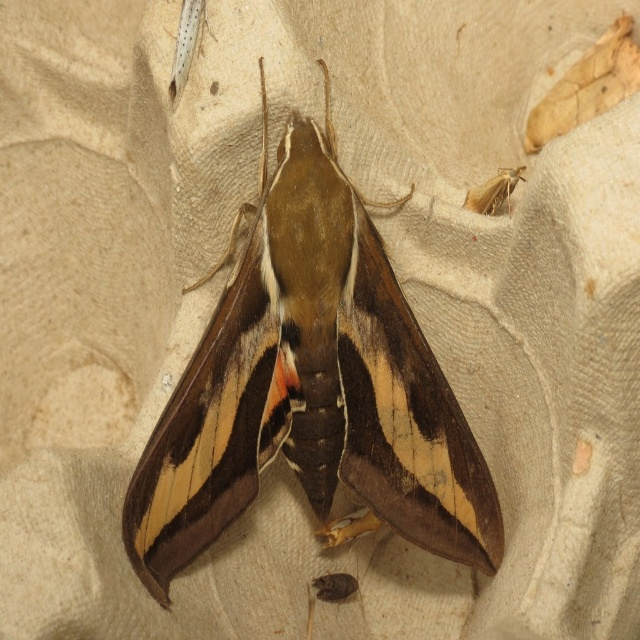Moths and butterflies: (121, 54, 509, 609)
